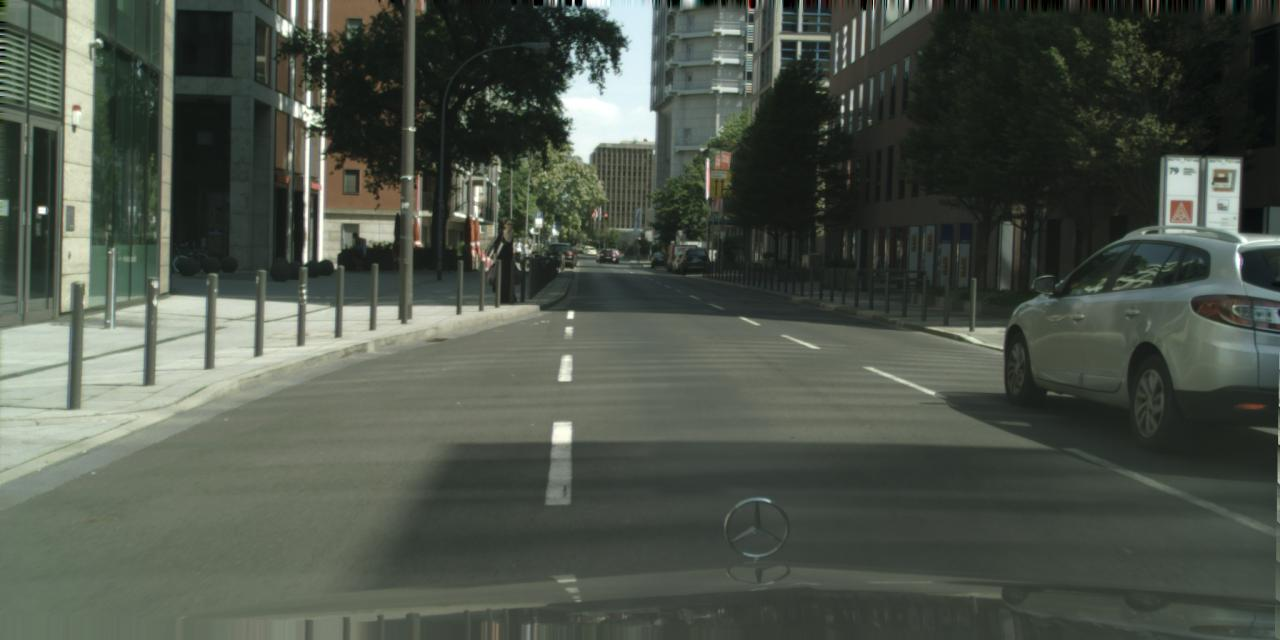ped: (490, 218, 524, 303), (349, 232, 364, 272), (521, 240, 530, 262), (514, 240, 522, 262)
